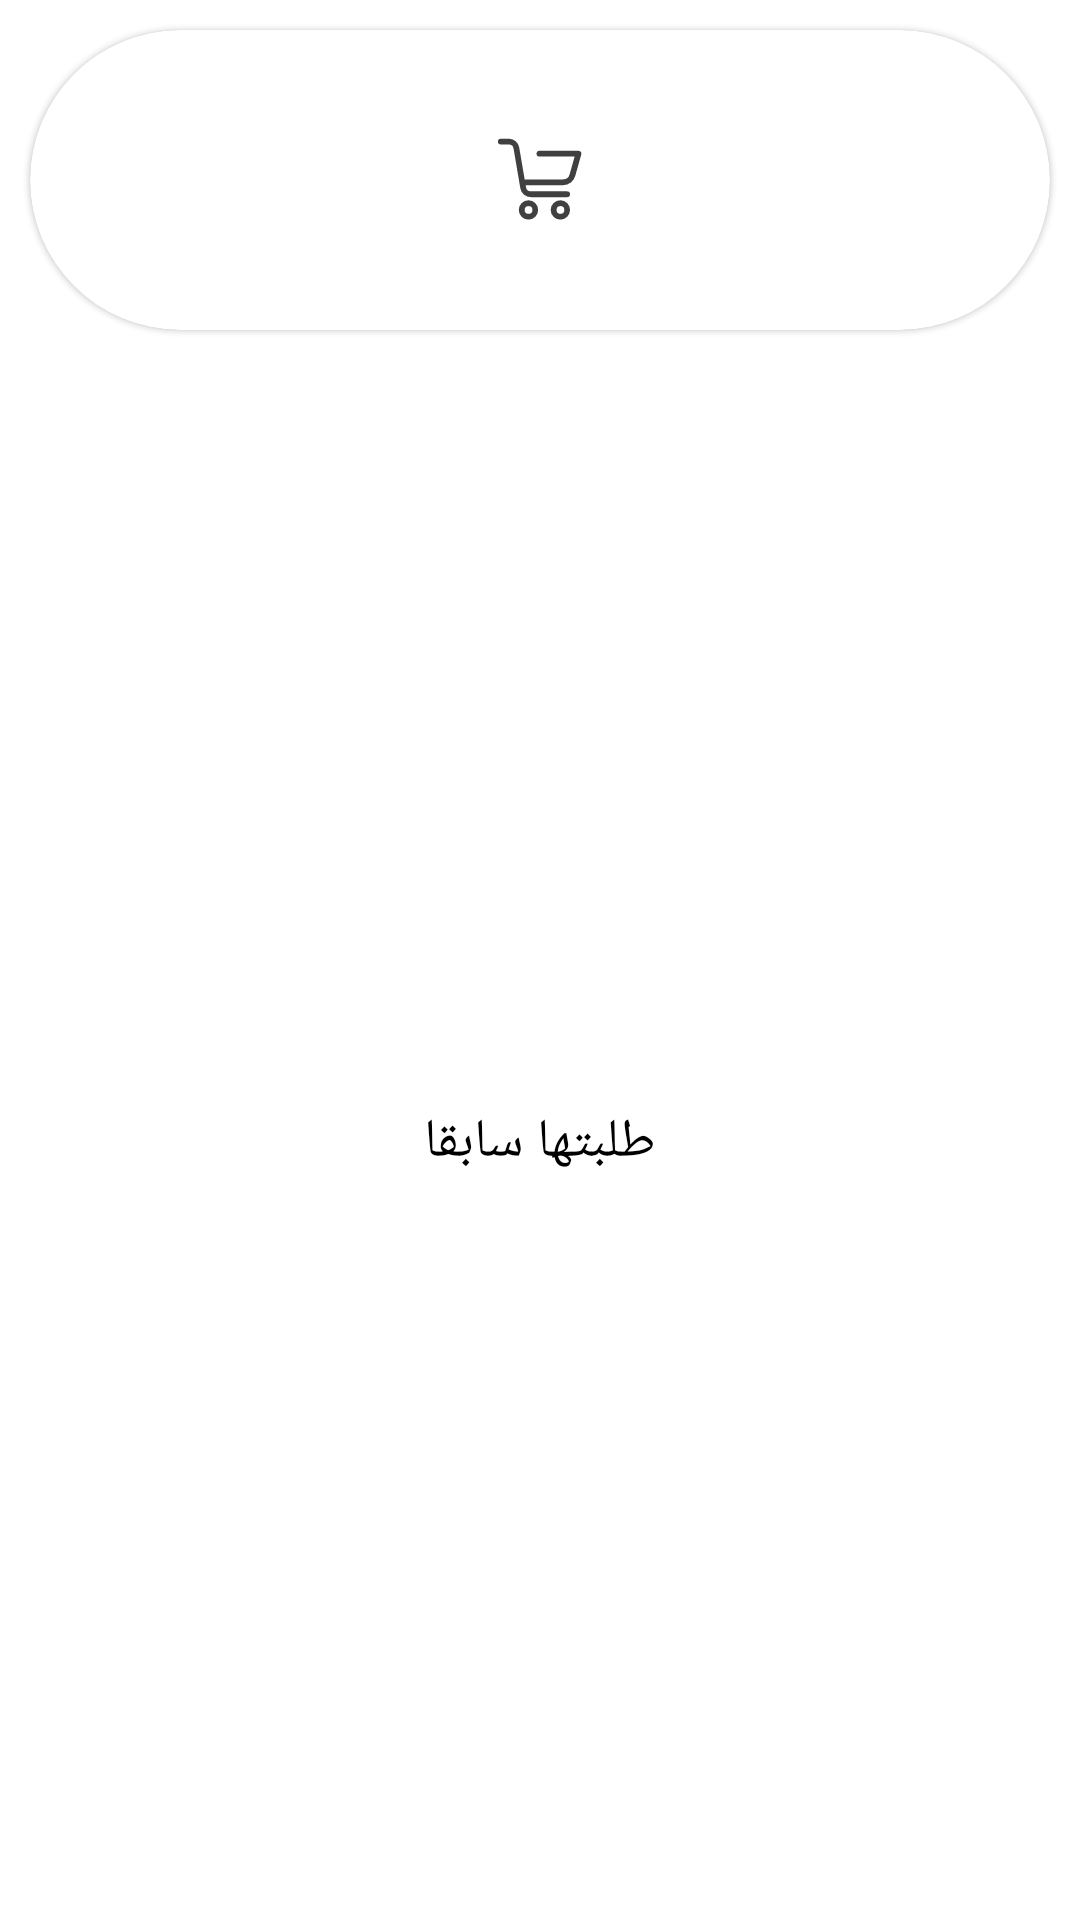

Point at icon controls on the screen. Image size 1080px x 1920px, points as [x,y].
cart: [540,179]
